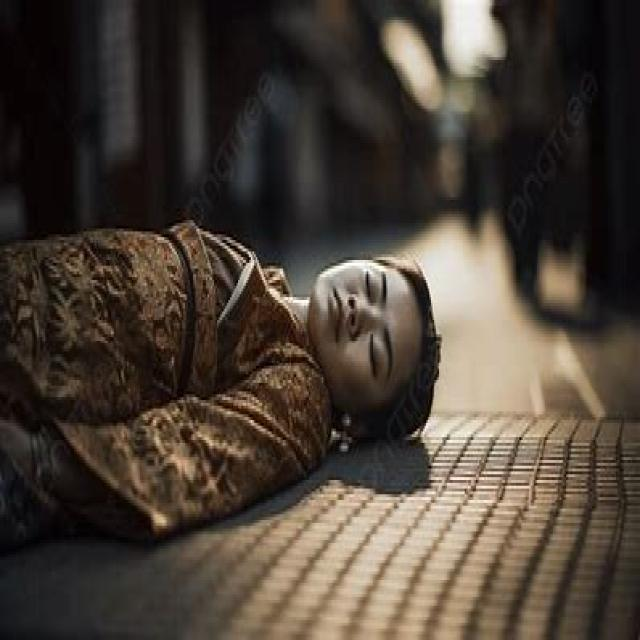lie: (0, 225, 443, 498)
